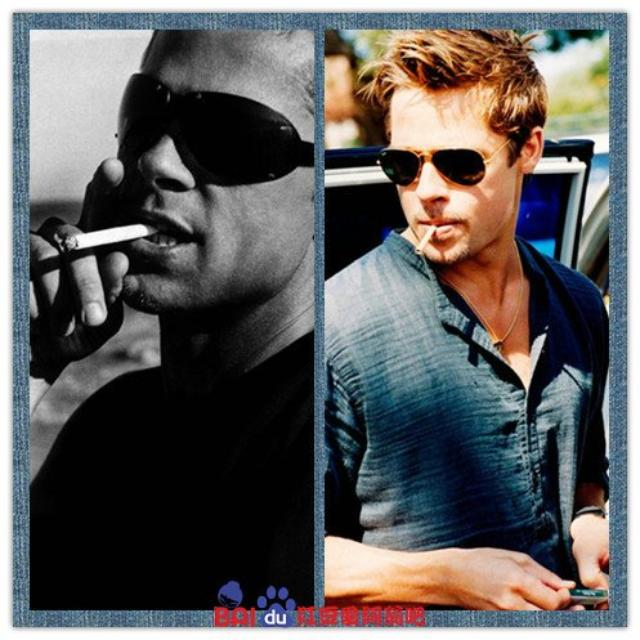Cigarette: (61, 223, 156, 253), (416, 222, 436, 258)
